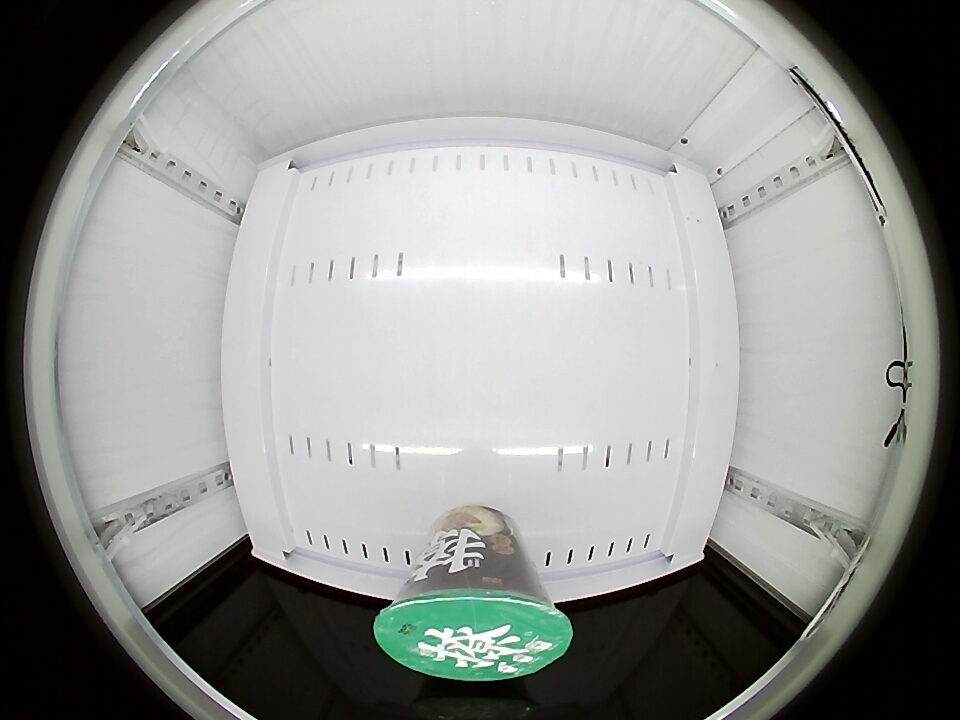liaomian: (375, 567, 573, 680)
